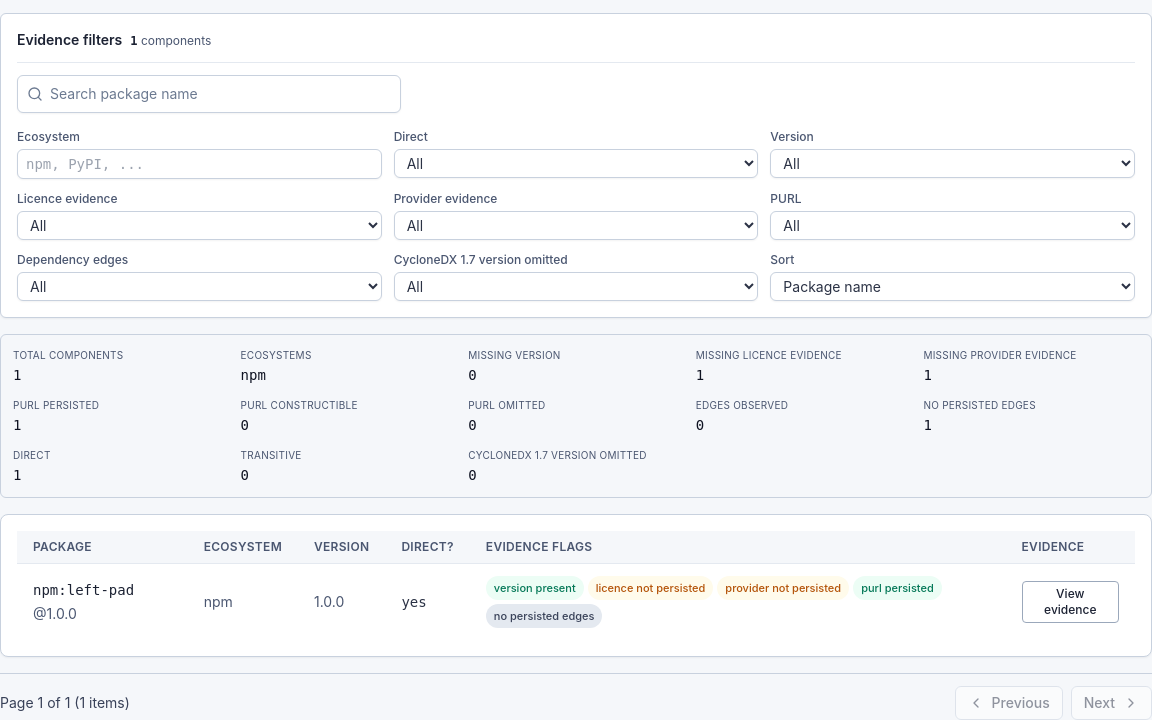
it: v0.9 evidence-aware search and filtering › View evidence button still opens the evidence drawer after a filter is applied
(page scrolled)
Click the button with test id "component-evidence-button-1": {"x": 1070, "y": 602} [1022, 581, 1119, 623]
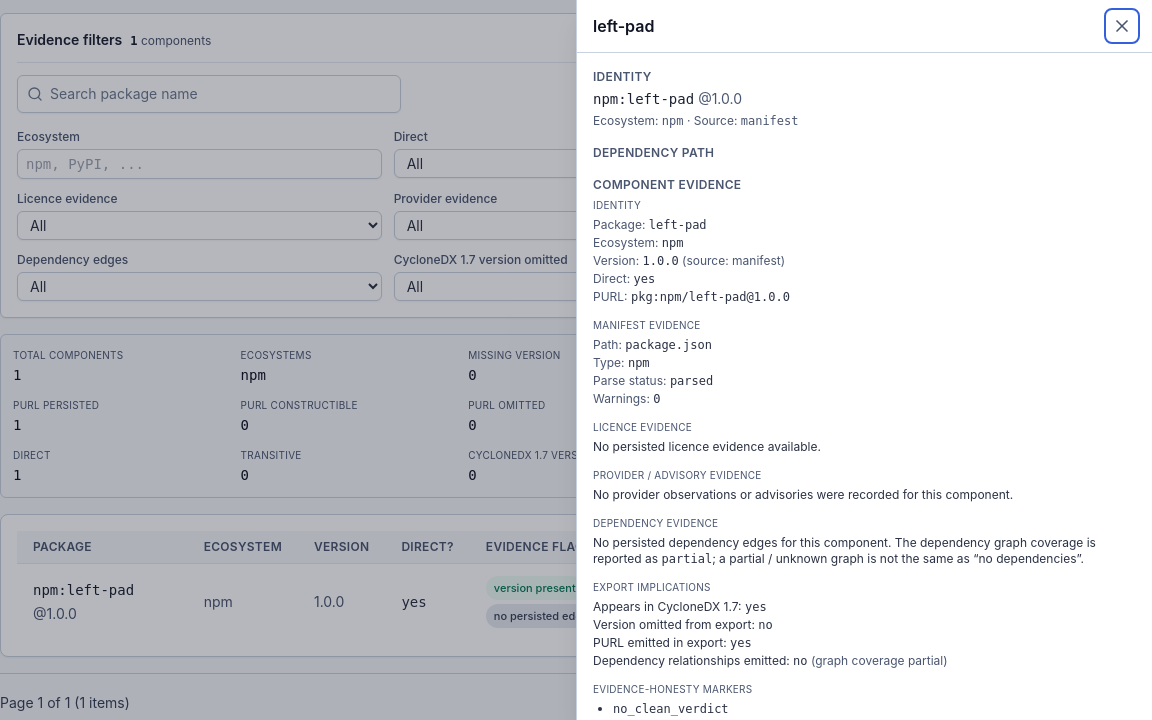
Expected: the element with test id "component-evidence-panel" is shown, [593, 197, 1136, 717]
Expected: the text with test id "ce-package-name" reads "left-pad", [649, 218, 707, 232]
Expected: the text "Direct:" is shown, [593, 271, 630, 286]
